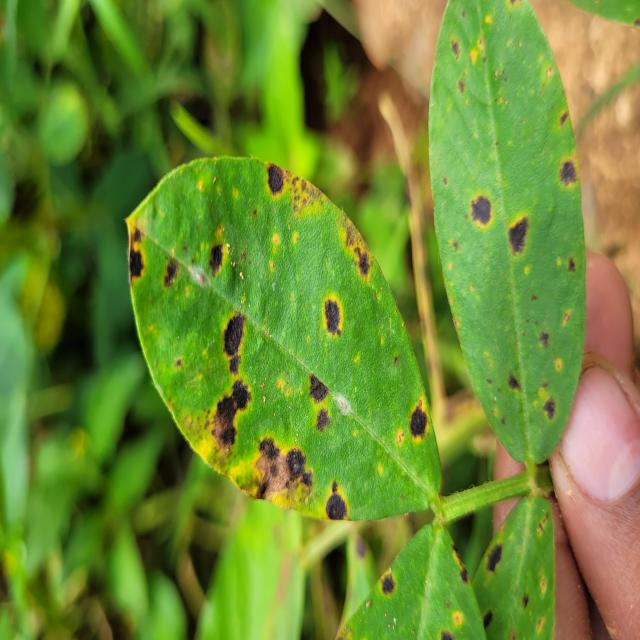Ground nut_tikka leaf spot: (128, 148, 440, 526), (430, 0, 586, 468)
